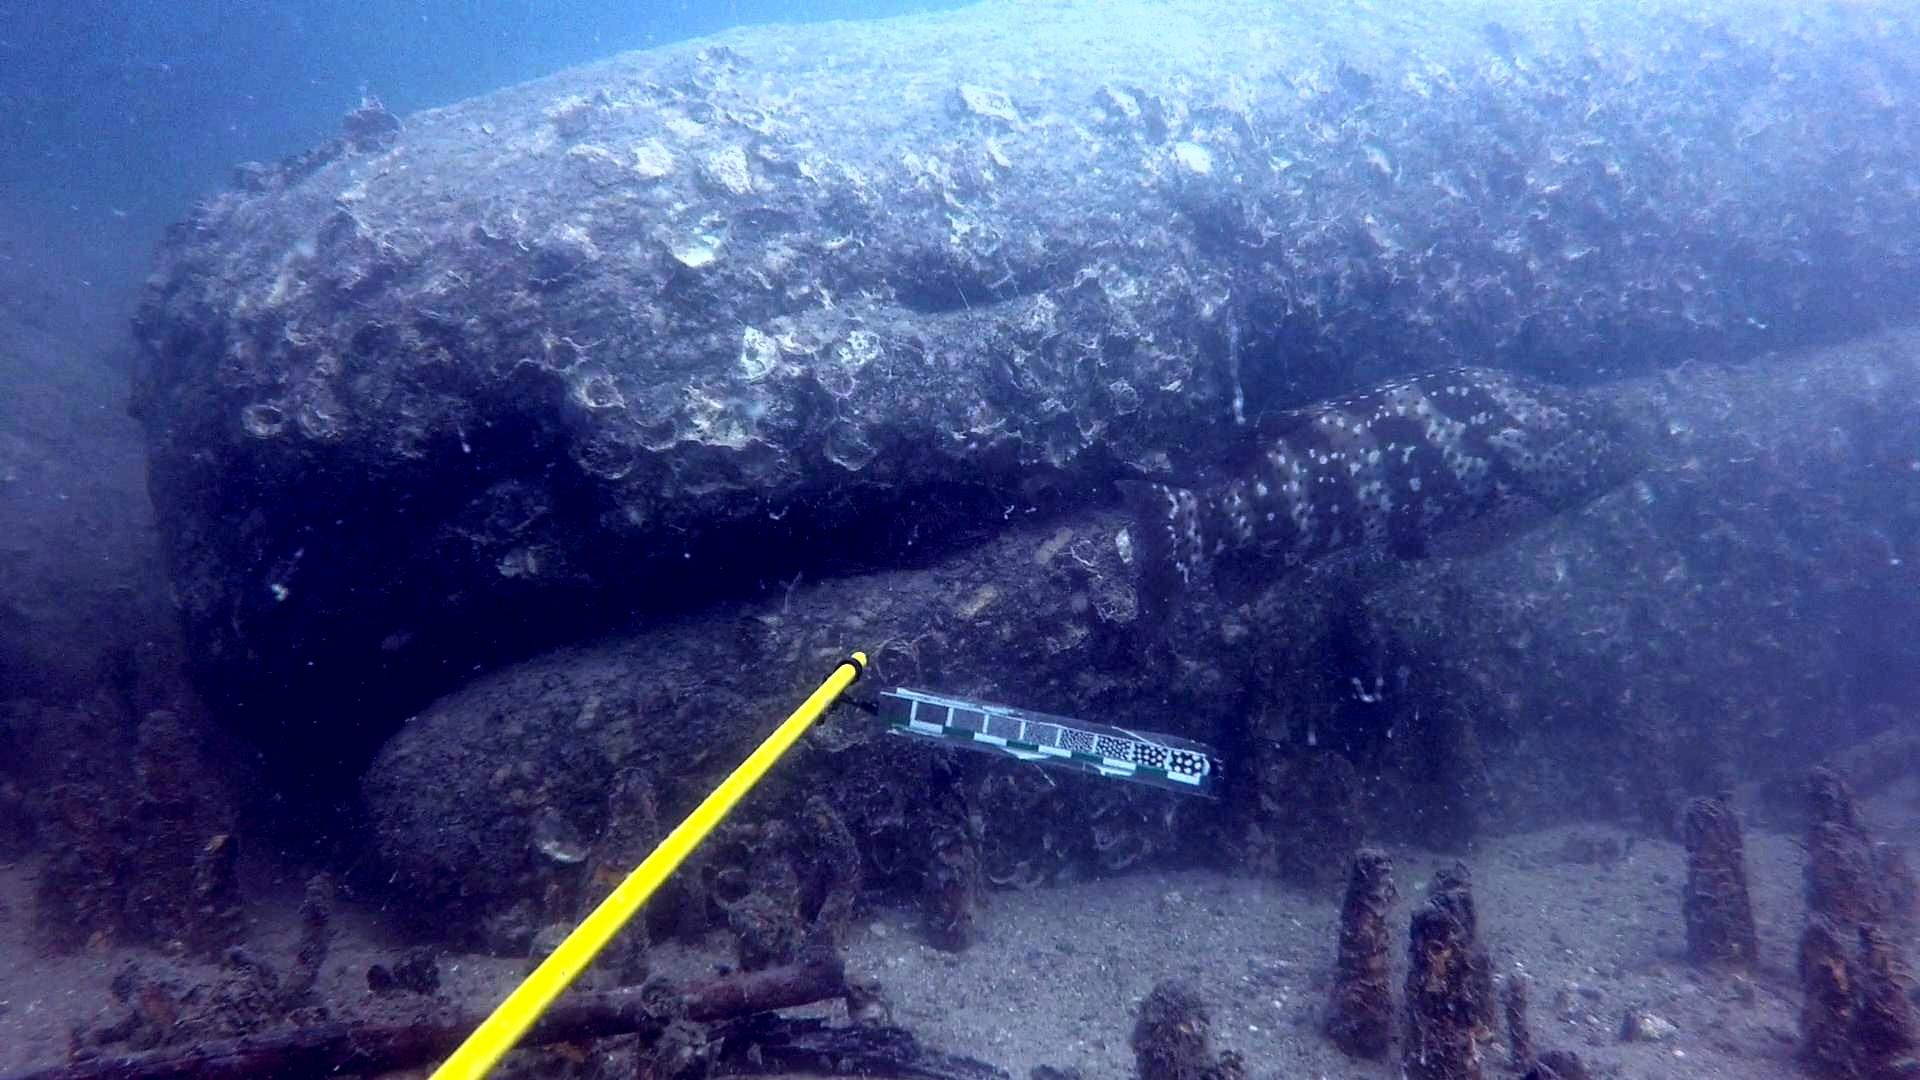epinephelus: (1105, 353, 1676, 681)
